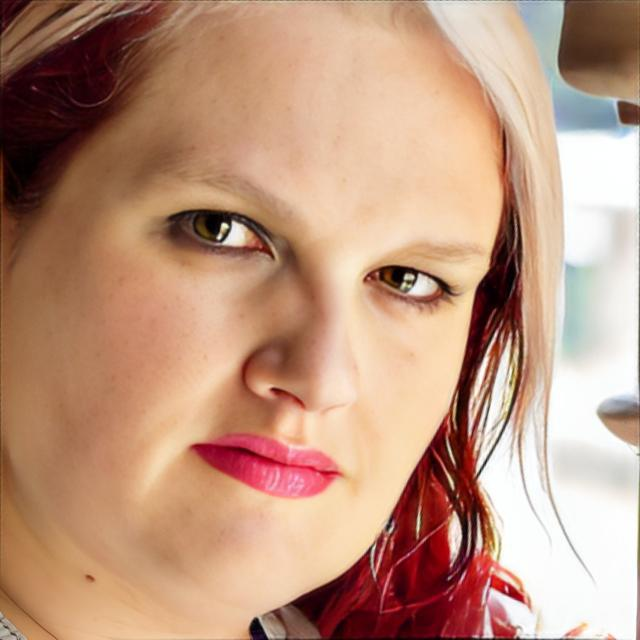disgust: (0, 0, 508, 621)
